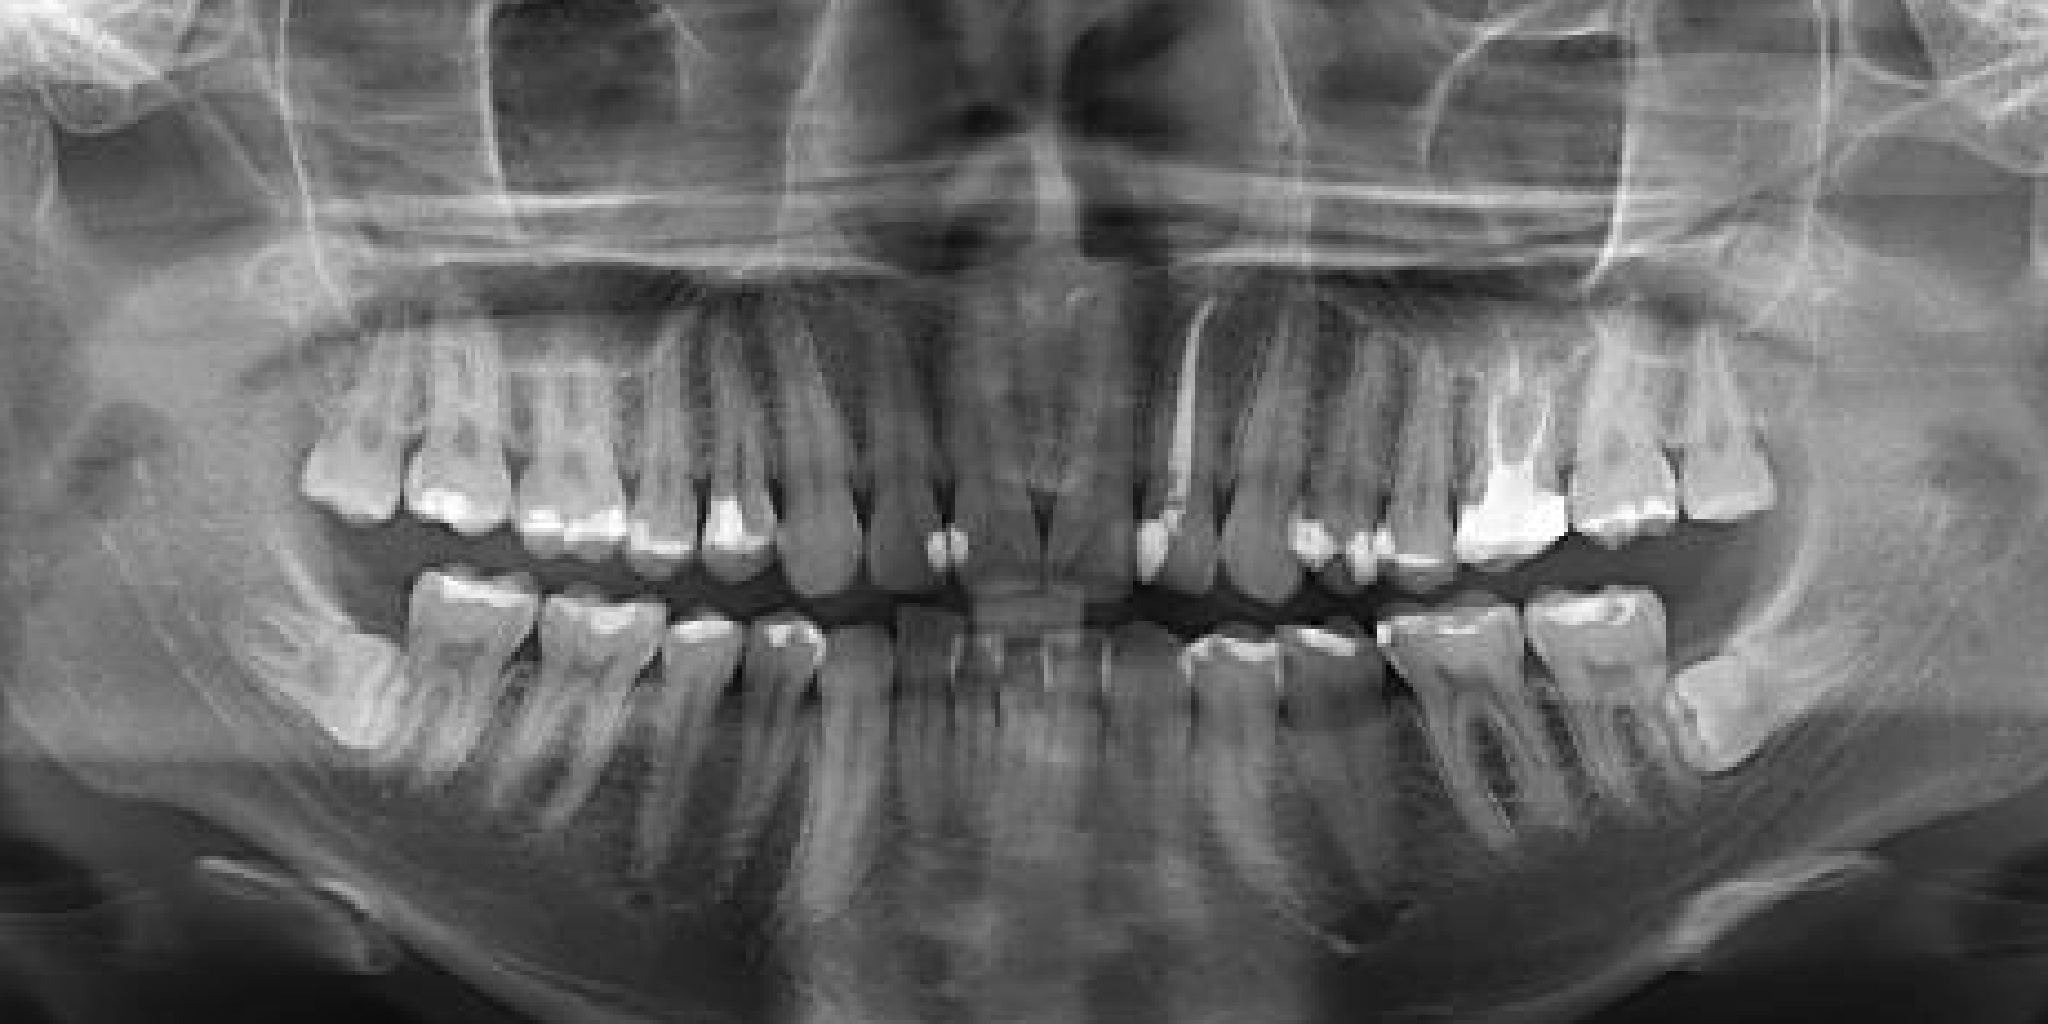Tooth: (1569, 451, 1985, 882), (1064, 579, 1475, 1014), (1307, 519, 1698, 963), (1445, 498, 1825, 942), (377, 508, 741, 955), (253, 481, 613, 927), (131, 411, 486, 859), (586, 541, 916, 986), (221, 182, 524, 622), (1212, 563, 1503, 1000), (1014, 573, 1305, 1011), (654, 206, 946, 643), (1046, 212, 1331, 647), (748, 212, 1033, 647), (921, 543, 1200, 977), (1140, 213, 1418, 647), (876, 546, 1144, 974), (430, 216, 697, 644), (1219, 232, 1485, 661), (324, 178, 584, 603), (539, 212, 799, 637), (1586, 185, 1840, 610), (842, 551, 1091, 972), (1384, 218, 1626, 637), (1496, 201, 1736, 620), (866, 217, 1100, 633), (981, 226, 1215, 643), (1307, 240, 1541, 656), (618, 218, 852, 633), (818, 558, 1031, 965)
